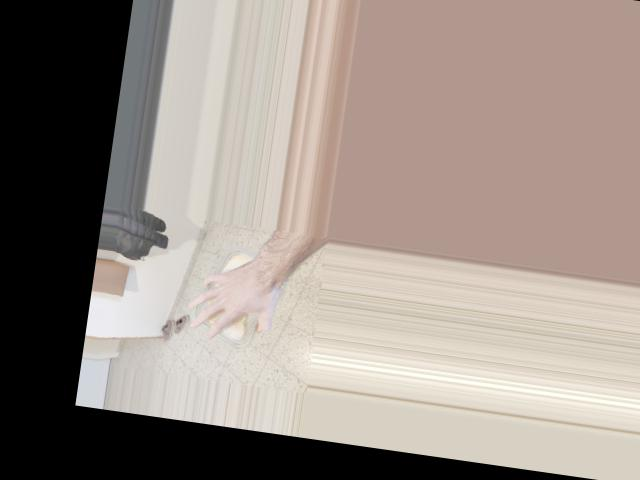cheese: (186, 245, 290, 350)
